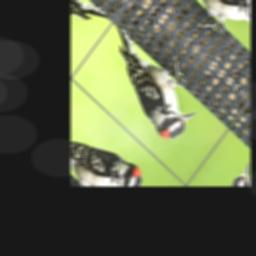Woodpecker: (88, 16, 213, 149)
